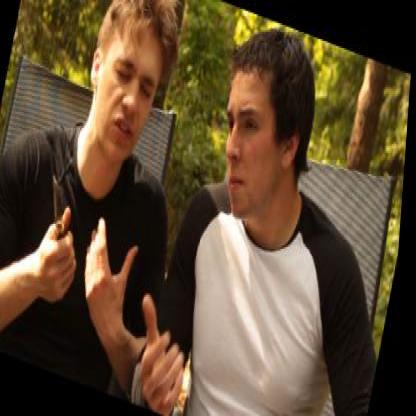knife: (36, 166, 96, 268)
